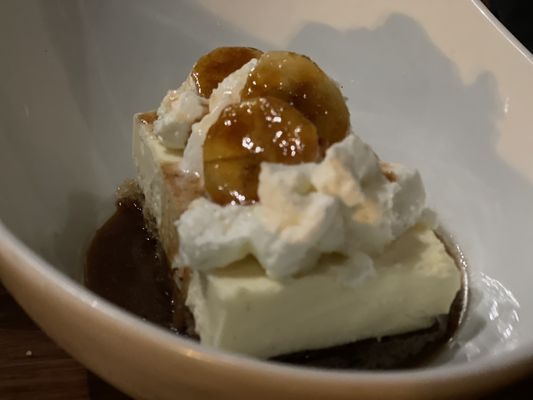sushi: (112, 40, 458, 363)
